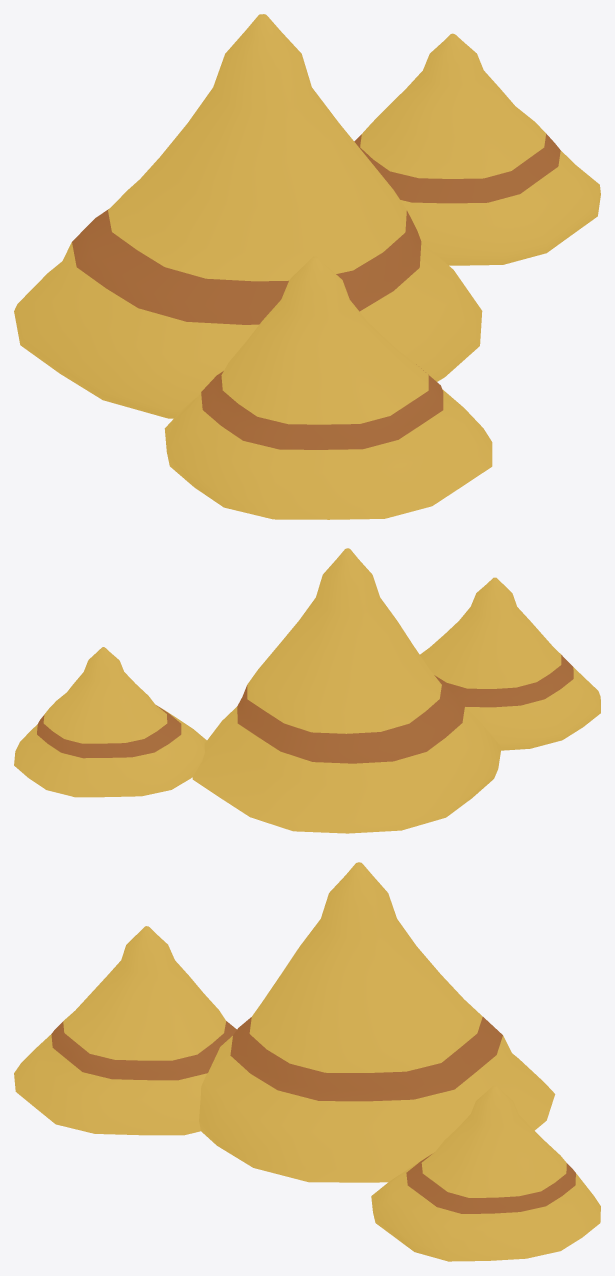
Rendered from Blender_BadlandsMound_1.glb.
3 renders of one model, top to bottom at view 1: azimuth 30°, elevation 25°; view 2: azimuth 150°, elevation 25°; view 3: azimuth 270°, elevation 25°, orthographic. The views are drawn at different scales.
Visible parts, largest first — view 1: Blender_BadlandsMound_1; view 2: Blender_BadlandsMound_1; view 3: Blender_BadlandsMound_1.
Part boxes in pixels (x1,y1,x2,y2): Blender_BadlandsMound_1: (14,14,600,519); Blender_BadlandsMound_1: (14,548,600,833); Blender_BadlandsMound_1: (14,862,600,1261).
Size of the model in its own units: 10.2 by 5.1 by 10.98.
